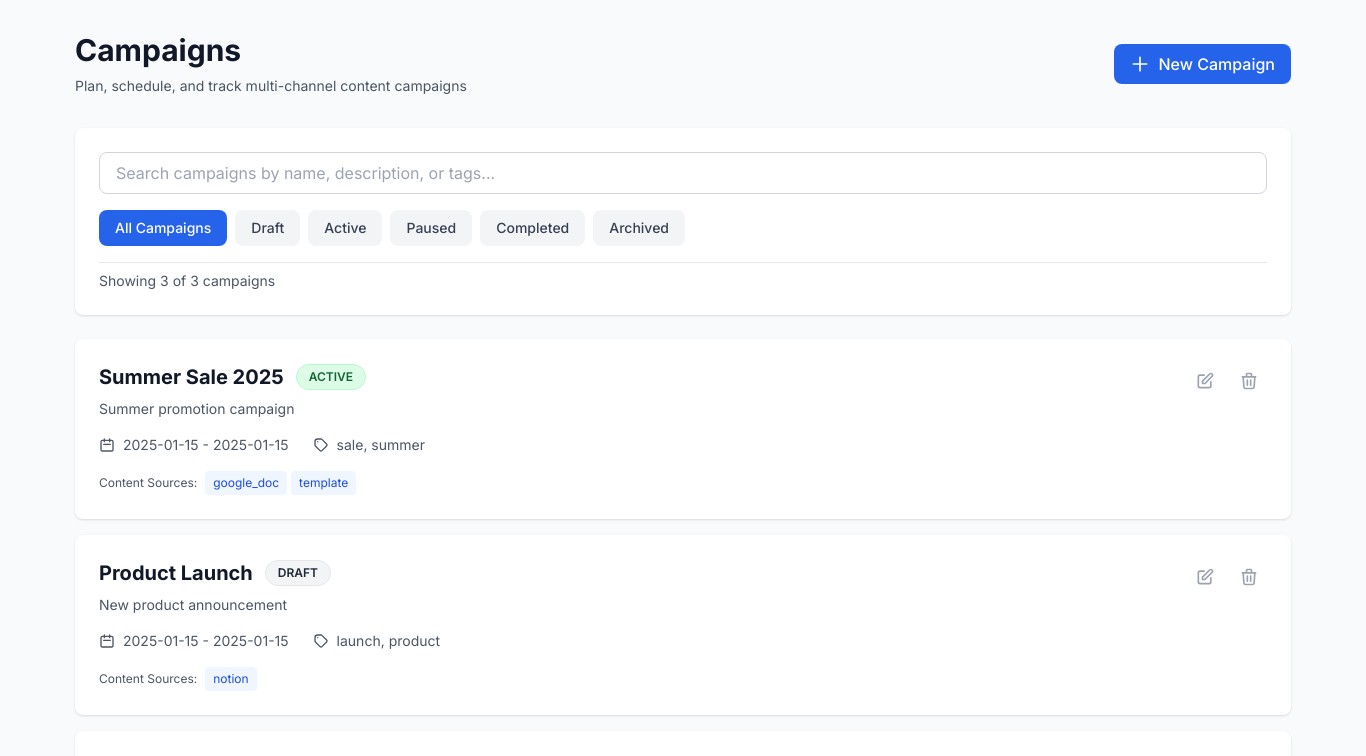
Test case: CampaignsPage › Status Filtering › should filter by paused status
This screenshot has width=1366, height=756.
Click the button "Paused".
click(431, 228)  # box left=390, top=210, right=472, bottom=246
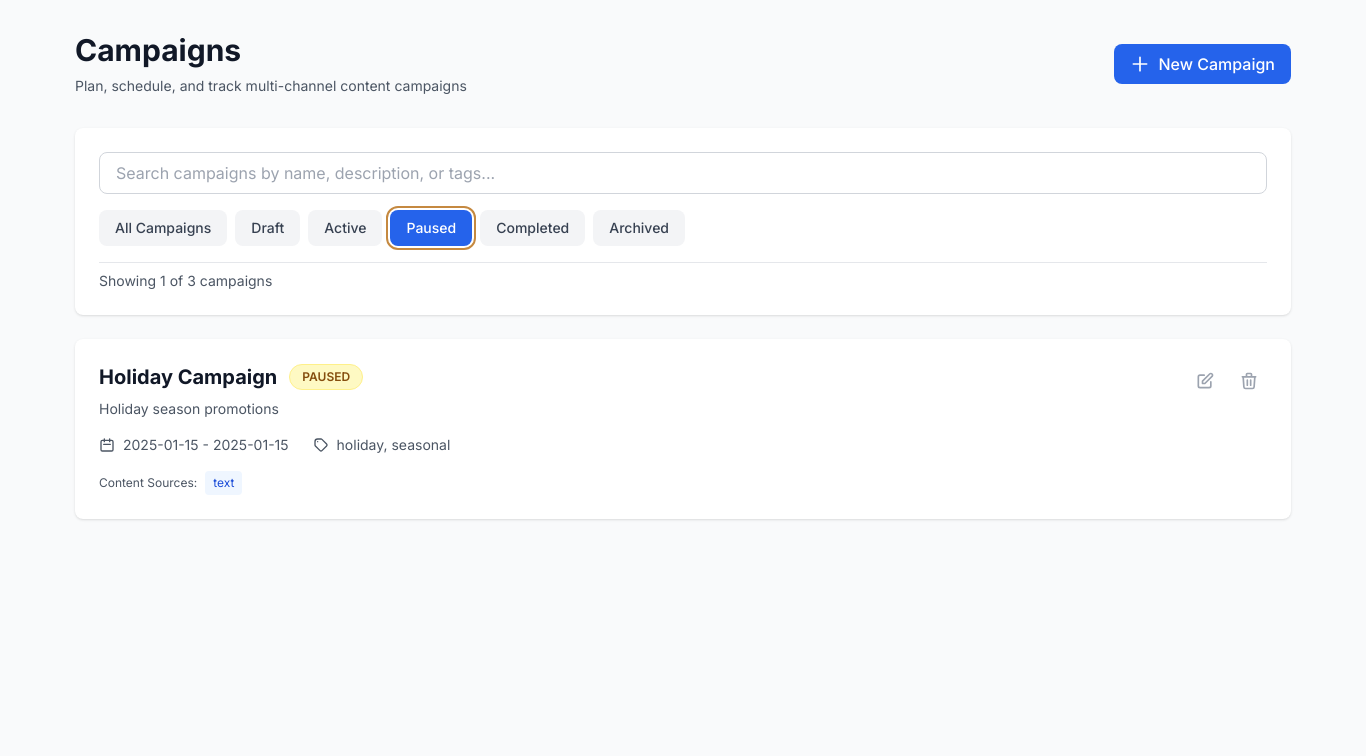
Expected: the heading "Holiday Campaign" is shown, left=99, top=363, right=277, bottom=391
Expected: the heading "Summer Sale 2025" is gone
